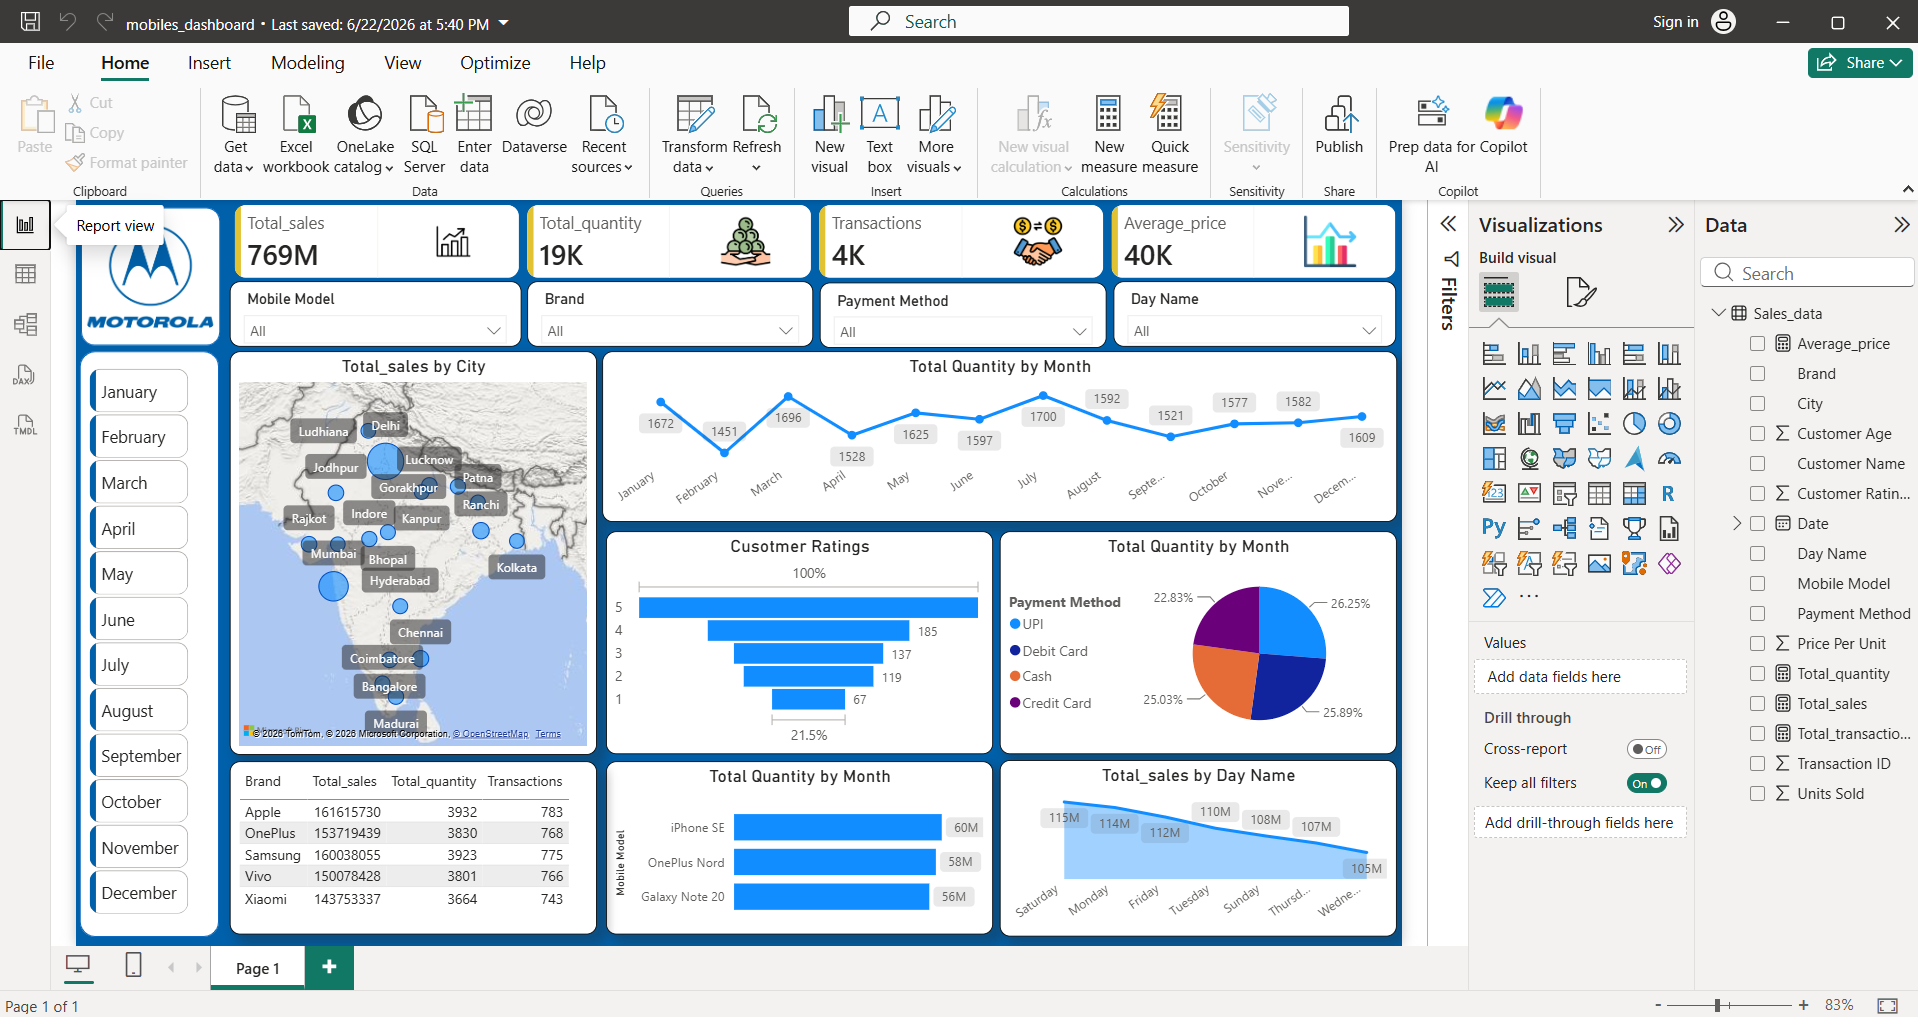

This screenshot's page, from the dashboard's own definition file:
{"tool":"powerbi","page":{"name":"Page 1","canvas":[1280,720],"ordinal":0},"visuals":[{"type":"shape","box":[4.4,7.8,134.4,133.3],"z":0},{"type":"image","box":[8.2,23.3,126.2,101.5],"z":1000},{"type":"shape","box":[4.1,145.5,134.5,565.4],"z":2000},{"type":"advancedSlicerVisual","fields":{"Values":["Sales_data.Date.Variation.Date Hierarchy.Month"]},"box":[8.2,157.8,105.7,546.1],"z":3000},{"type":"cardVisual","fields":{"Data":["Sales_data.Total_sales","Sales_data.Total_quantity","Sales_data.Total_transactions","Sales_data.Average_price"]},"box":[148.2,0,1132.1,81],"z":4000},{"type":"map","fields":{"Category":["Sales_data.City"],"Size":["Sales_data.Total_sales"]},"box":[148.2,145.5,354,389.7],"z":5000},{"type":"lineChart","title":"Total Quantity by Month","fields":{"Category":["Sales_data.Date.Variation.Date Hierarchy.Month","Sales_data.Date.Variation.Date Hierarchy.Day"],"Y":["Sales_data.Total_quantity"]},"box":[507.7,145.5,767.1,164.7],"z":5001},{"type":"clusteredBarChart","title":"Total Quantity by Month","fields":{"Category":["Sales_data.Mobile Model"],"Y":["Sales_data.Total_sales"]},"box":[511.8,542,373.2,167.4],"z":5002},{"type":"pieChart","title":"Total Quantity by Month","fields":{"Y":["Sales_data.Total_transactions"],"Category":["Sales_data.Payment Method"]},"box":[891.9,319.7,382.8,215.4],"z":5003},{"type":"funnel","title":"Cusotmer Ratings","fields":{"Category":["Sales_data.Customer Ratings"],"Y":["CountNonNull(Sales_data.Customer Ratings)"]},"box":[511.8,319.7,373.2,215.4],"z":5004},{"type":"areaChart","fields":{"Category":["Sales_data.Day Name"],"Y":["Sales_data.Total_sales"]},"box":[891.9,540.7,382.8,170.2],"z":5005},{"type":"tableEx","fields":{"Values":["Sales_data.Brand","Sales_data.Total_sales","Sales_data.Total_quantity","Sales_data.Total_transactions"]},"box":[148.2,542,354,167.4],"z":5006},{"type":"slicer","fields":{"Values":["Sales_data.Mobile Model"]},"box":[148.2,78.2,281.3,63.1],"z":5007},{"type":"slicer","fields":{"Values":["Sales_data.Payment Method"]},"box":[717.7,79.6,277.2,63.1],"z":5008},{"type":"slicer","fields":{"Values":["Sales_data.Day Name"]},"box":[1001.7,78.2,273.1,63.1],"z":5009},{"type":"slicer","fields":{"Values":["Sales_data.Brand"]},"box":[435,78.2,275.8,63.1],"z":5010}]}

Visuals, with their boxes on the page's 1280x720 design canvas (x1, y1, x2, y2). These are canvas units, not pixel positions in the 1918x1017 screenshot, which may show the page scaled, cropped or inside an application window:
shape: l=4, t=8, r=139, b=141
image: l=8, t=23, r=134, b=125
shape: l=4, t=146, r=139, b=711
advancedSlicerVisual - Sales_data.Date.Variation.Date Hierarchy.Month: l=8, t=158, r=114, b=704
cardVisual - Sales_data.Total_sales x Sales_data.Total_quantity: l=148, t=0, r=1280, b=81
map - Sales_data.City x Sales_data.Total_sales: l=148, t=146, r=502, b=535
"Total Quantity by Month" lineChart: l=508, t=146, r=1275, b=310
"Total Quantity by Month" clusteredBarChart: l=512, t=542, r=885, b=709
"Total Quantity by Month" pieChart: l=892, t=320, r=1275, b=535
"Cusotmer Ratings" funnel: l=512, t=320, r=885, b=535
areaChart - Sales_data.Day Name x Sales_data.Total_sales: l=892, t=541, r=1275, b=711
tableEx - Sales_data.Brand x Sales_data.Total_sales: l=148, t=542, r=502, b=709
slicer - Sales_data.Mobile Model: l=148, t=78, r=430, b=141
slicer - Sales_data.Payment Method: l=718, t=80, r=995, b=143
slicer - Sales_data.Day Name: l=1002, t=78, r=1275, b=141
slicer - Sales_data.Brand: l=435, t=78, r=711, b=141
